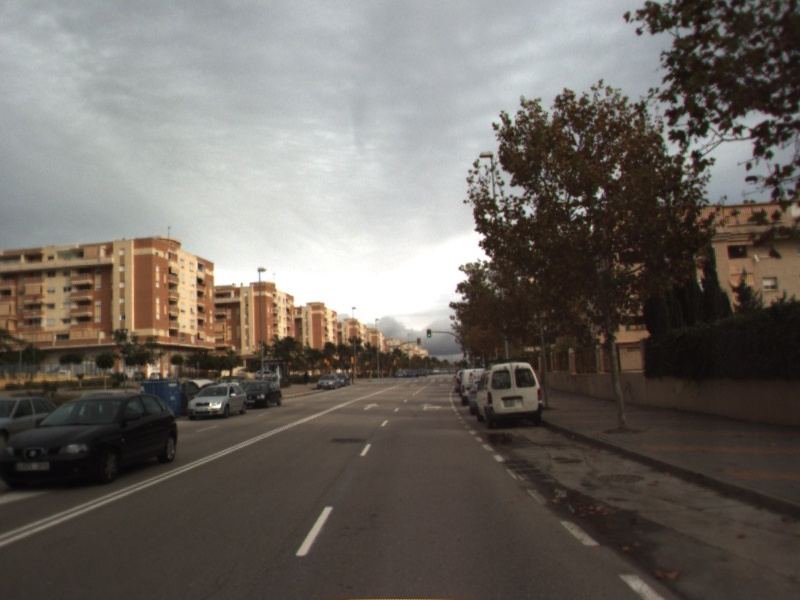STRAIGHT: (360, 400, 382, 413)
STRAIGHT_RIGHT: (418, 400, 445, 413)
